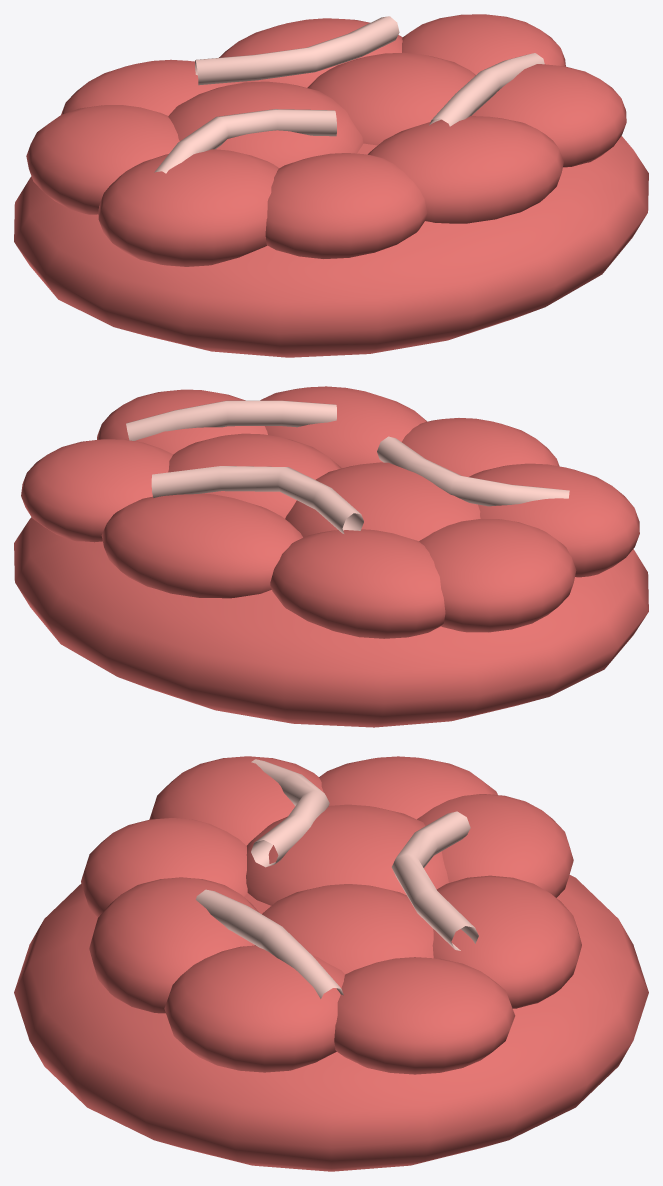
Rendered from BeefRaw.fbx.
3 views of the same model, one above another, from view 1: azimuth 30°, elevation 25°; view 2: azimuth 150°, elevation 25°; view 3: azimuth 270°, elevation 25° (orthographic). The views are drawn at different scales.
Parts seen in each view (by area): view 1: MAT_BeefRaw Geometry, MAT_BeefFat Geometry; view 2: MAT_BeefRaw Geometry, MAT_BeefFat Geometry; view 3: MAT_BeefRaw Geometry, MAT_BeefFat Geometry.
Boxes of the visible parts, <box> form: MAT_BeefRaw Geometry: <box>14,14,648,357</box>; MAT_BeefFat Geometry: <box>154,16,544,173</box>; MAT_BeefRaw Geometry: <box>14,386,648,727</box>; MAT_BeefFat Geometry: <box>126,400,569,533</box>; MAT_BeefRaw Geometry: <box>14,756,648,1171</box>; MAT_BeefFat Geometry: <box>196,759,478,998</box>.
Bounding box in the file's own units: 88 × 31.3 × 76.
